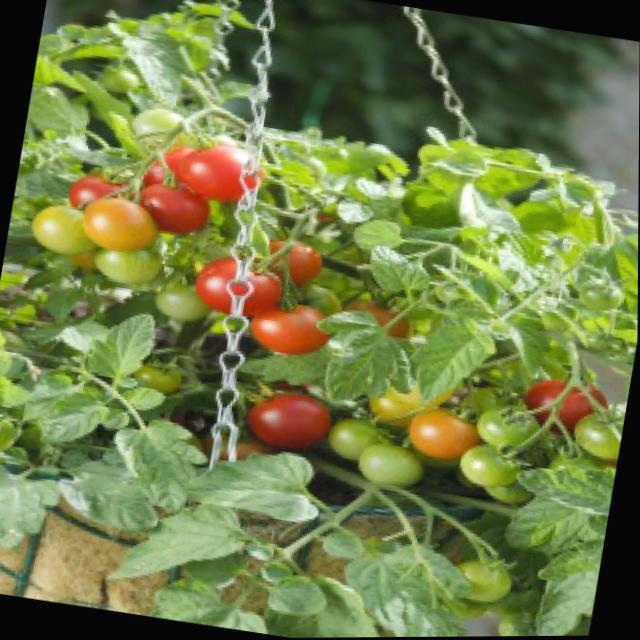tomato: (156, 135, 267, 211), (190, 252, 289, 328), (244, 384, 340, 460), (519, 373, 618, 444), (244, 298, 337, 366), (76, 194, 165, 261), (65, 174, 140, 224)
